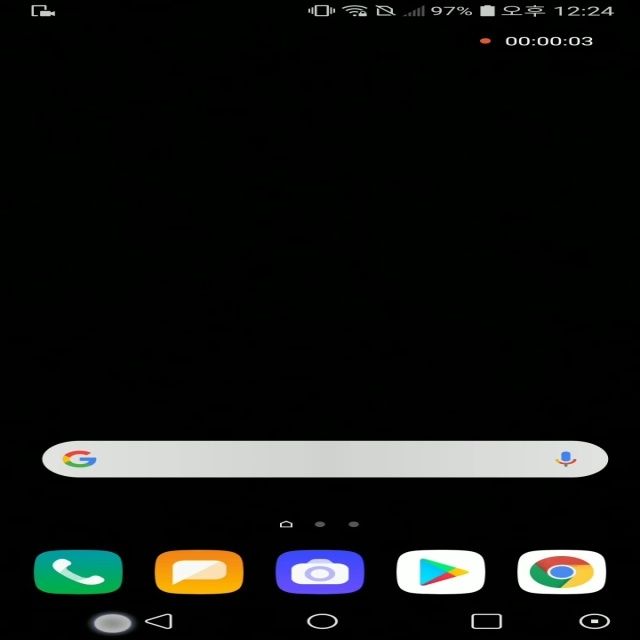Cursor: (93, 613, 137, 636)
